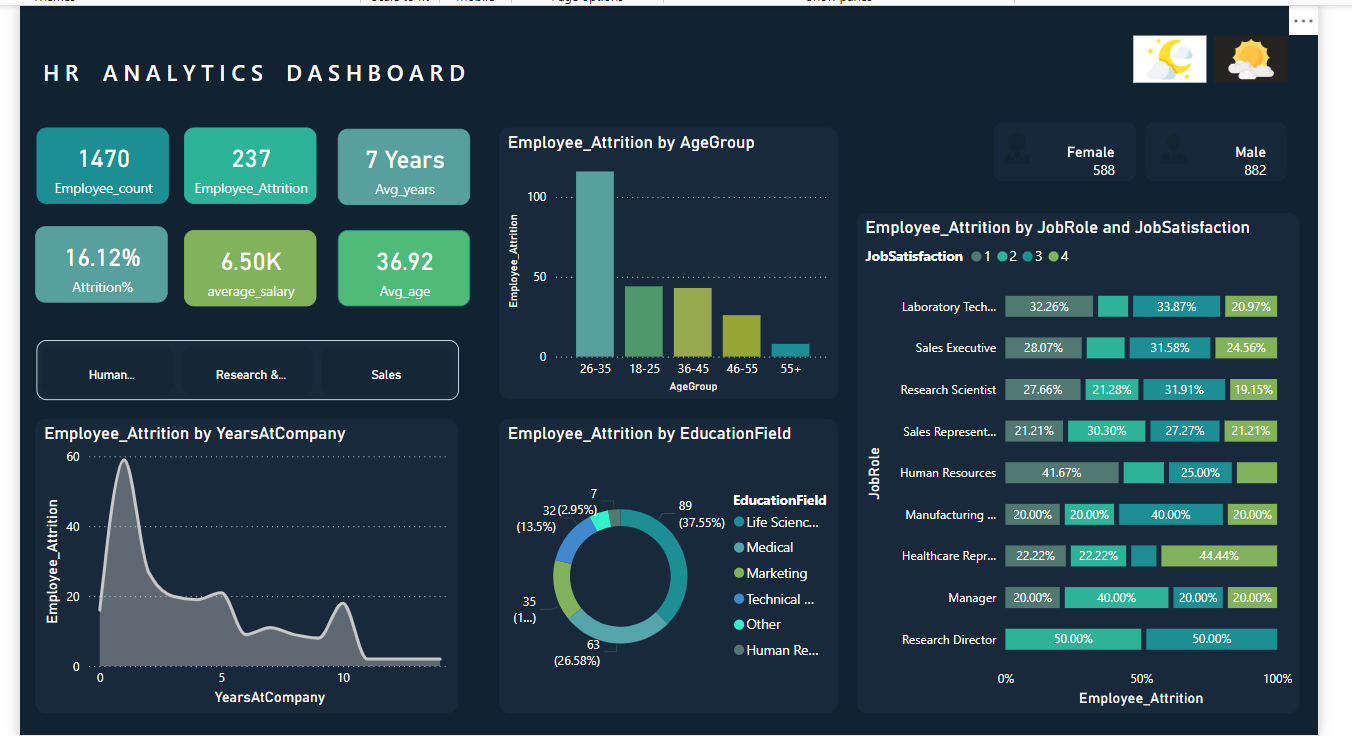

This screenshot's page, from the dashboard's own definition file:
{"tool":"powerbi","page":{"name":"Duplicate of Page 1","canvas":[1280,720],"ordinal":0},"visuals":[{"type":"shape","box":[0,0,1280,720.2],"z":0},{"type":"image","box":[1110.8,121.8,54.3,39.8],"z":1000},{"type":"image","box":[960,120.6,45.8,41],"z":2000},{"type":"card","fields":{"Values":["HR_Analytics.Employee_count"]},"box":[17.8,120.8,130.4,75.5],"z":3000},{"type":"card","fields":{"Values":["HR_Analytics.Avg_years_with_text"]},"box":[314.2,122.1,130.4,75.5],"z":4000},{"type":"card","fields":{"Values":["HR_Analytics.Attrition%"]},"box":[16.5,218.2,130.4,75.5],"z":5000},{"type":"card","fields":{"Values":["HR_Analytics.Avg_age"]},"box":[314.2,220.9,130.4,75.5],"z":6000},{"type":"card","fields":{"Values":["HR_Analytics.average_salary"]},"box":[161.9,220.9,130.4,75.5],"z":7000},{"type":"card","fields":{"Values":["HR_Analytics.Employee_Attrition"]},"box":[161.9,120.8,130.4,75.5],"z":8000},{"type":"areaChart","fields":{"Y":["HR_Analytics.Employee_Attrition"],"Category":["HR_Analytics.YearsAtCompany"]},"box":[16.5,407.5,415.8,289.5],"z":9000},{"type":"donutChart","fields":{"Y":["HR_Analytics.Employee_Attrition"],"Category":["HR_Analytics.EducationField"]},"box":[472,407.5,333.4,289.5],"z":10000},{"type":"clusteredColumnChart","fields":{"Category":["HR_Analytics.AgeGroup"],"Y":["HR_Analytics.Employee_Attrition"]},"box":[472,120.8,333.4,267.6],"z":11000},{"type":"hundredPercentStackedBarChart","fields":{"Y":["HR_Analytics.Employee_Attrition"],"Category":["HR_Analytics.JobRole"],"Series":["HR_Analytics.JobSatisfaction"]},"box":[824.7,204.5,436.4,492.6],"z":12000},{"type":"advancedSlicerVisual","fields":{"Values":["HR_Analytics.Gender"]},"box":[949.1,104.9,311.2,74.8],"z":13000},{"type":"advancedSlicerVisual","fields":{"Values":["HR_Analytics.Department"]},"box":[17.8,329.3,415.8,59],"z":14000},{"type":"advancedSlicerVisual","fields":{"Values":["dark_mode.Label"]},"box":[1086.6,19.3,173.7,62.7],"z":15000},{"type":"shape","box":[0,25.3,82,79.6],"z":16000},{"type":"shape","box":[230.4,25.3,241.2,79.6],"z":17000},{"type":"shape","box":[41,25.3,241.2,79.6],"z":18000}]}

Visuals, with their boxes on the page's 1280x720 design canvas (x1, y1, x2, y2). These are canvas units, not pixel positions in the 1352x736 screenshot, which may show the page scaled, cropped or inside an application window:
shape: box=[0, 0, 1280, 720]
image: box=[1111, 122, 1165, 162]
image: box=[960, 121, 1006, 162]
card - HR_Analytics.Employee_count: box=[18, 121, 148, 196]
card - HR_Analytics.Avg_years_with_text: box=[314, 122, 445, 198]
card - HR_Analytics.Attrition%: box=[16, 218, 147, 294]
card - HR_Analytics.Avg_age: box=[314, 221, 445, 296]
card - HR_Analytics.average_salary: box=[162, 221, 292, 296]
card - HR_Analytics.Employee_Attrition: box=[162, 121, 292, 196]
areaChart - HR_Analytics.Employee_Attrition x HR_Analytics.YearsAtCompany: box=[16, 408, 432, 697]
donutChart - HR_Analytics.Employee_Attrition x HR_Analytics.EducationField: box=[472, 408, 805, 697]
clusteredColumnChart - HR_Analytics.AgeGroup x HR_Analytics.Employee_Attrition: box=[472, 121, 805, 388]
hundredPercentStackedBarChart - HR_Analytics.Employee_Attrition x HR_Analytics.JobRole: box=[825, 204, 1261, 697]
advancedSlicerVisual - HR_Analytics.Gender: box=[949, 105, 1260, 180]
advancedSlicerVisual - HR_Analytics.Department: box=[18, 329, 434, 388]
advancedSlicerVisual - dark_mode.Label: box=[1087, 19, 1260, 82]
shape: box=[0, 25, 82, 105]
shape: box=[230, 25, 472, 105]
shape: box=[41, 25, 282, 105]
